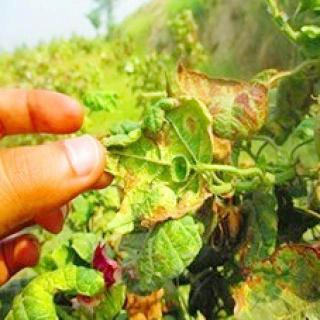curl: (123, 72, 273, 278)
